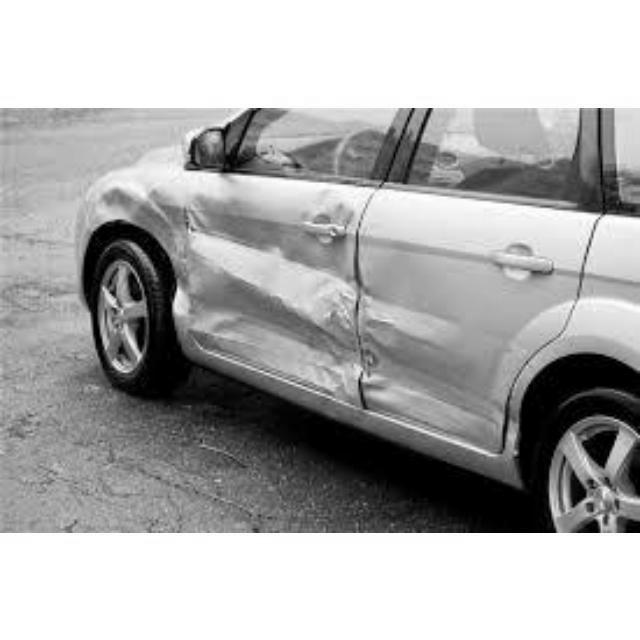doorouter-dent: (364, 185, 561, 410), (180, 173, 361, 391)
fender-dent: (70, 158, 186, 260)
